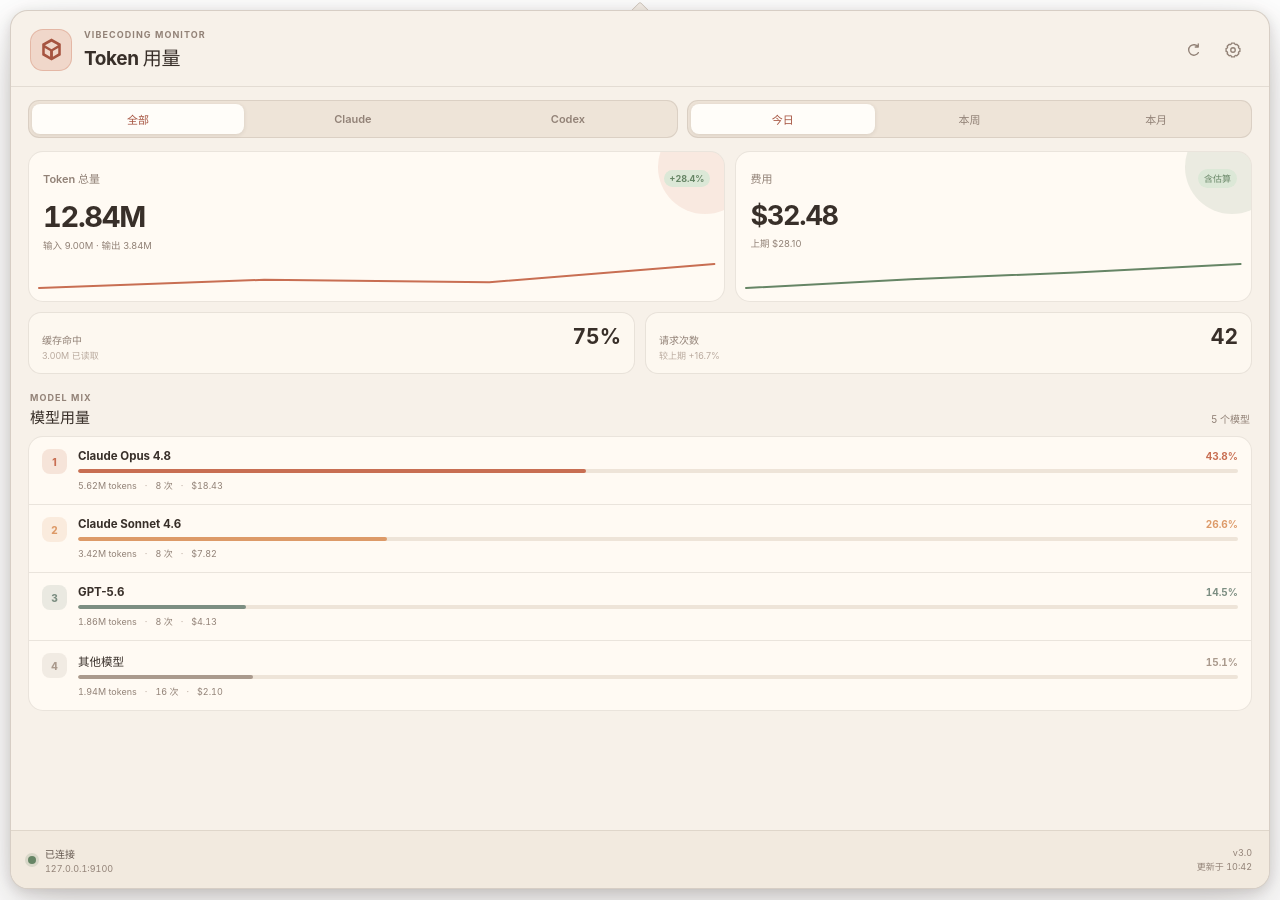
Test case: Vibecoding Monitor panel › keeps the last successful data visible when a refresh fails
Check: the text "12.84M" is shown, box [43, 199, 145, 234]
Click the button named "立即刷新" at (1193, 50), box [1176, 32, 1210, 66]
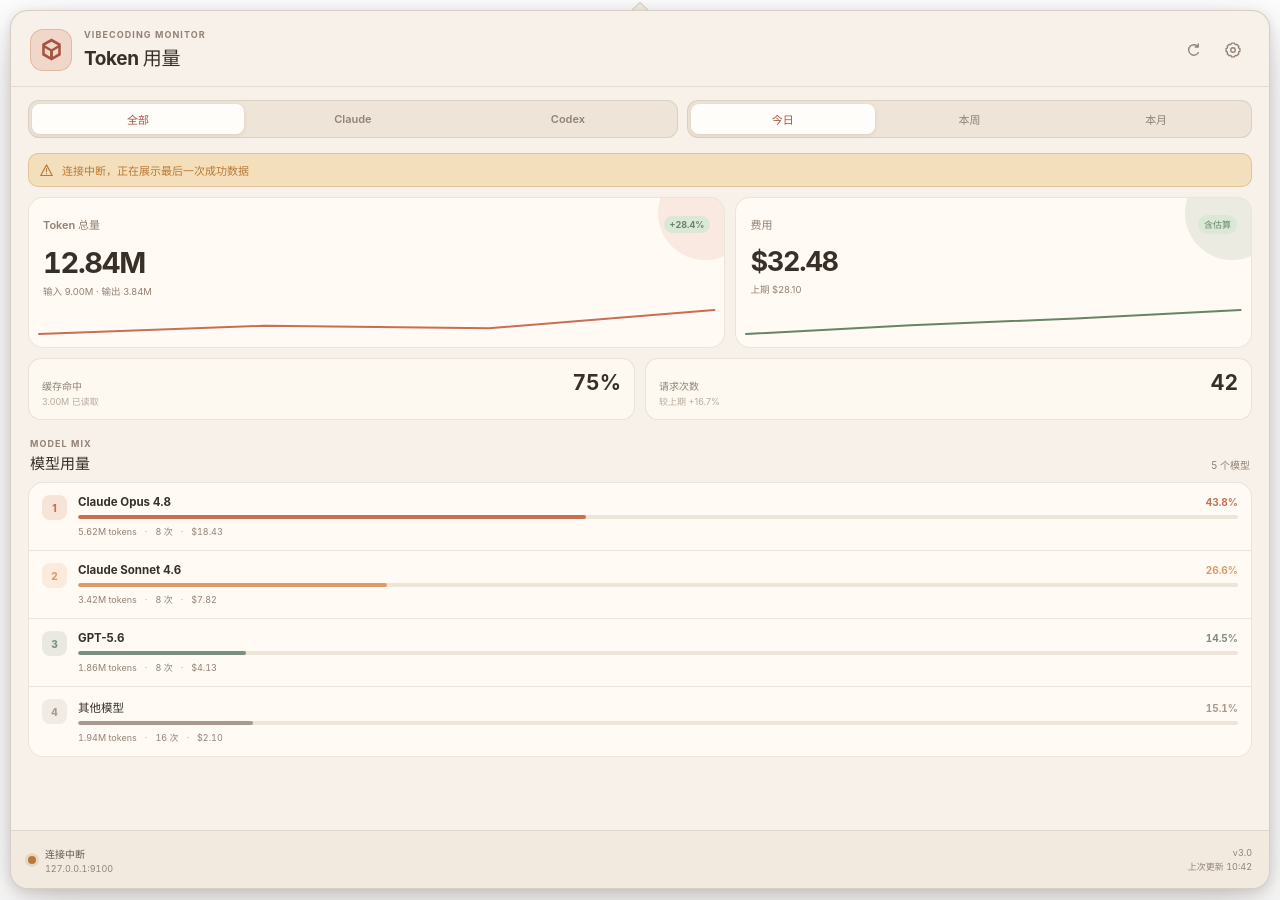
Check: the text "12.84M" is shown, box [43, 245, 145, 280]
Check: the text "连接中断" is shown, box [45, 848, 85, 860]
Check: the text "上次更新 10:42" is shown, box [1188, 860, 1252, 872]
